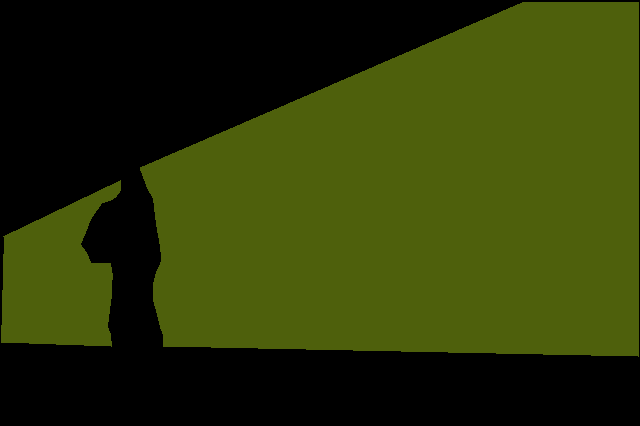Train: (1, 2, 638, 356)
